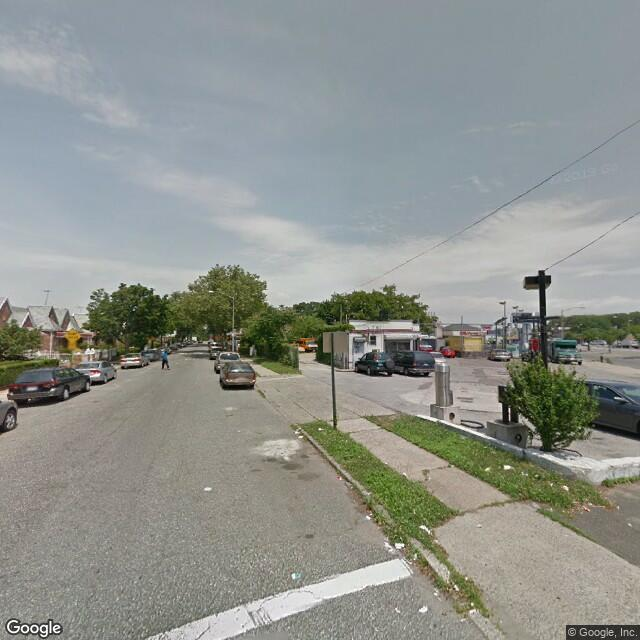litter: (414, 520, 436, 535), (502, 457, 515, 479), (556, 478, 575, 492), (362, 507, 378, 523), (293, 424, 308, 441), (392, 536, 407, 553), (456, 572, 475, 584), (314, 421, 327, 435), (479, 463, 497, 473), (401, 466, 410, 480)
